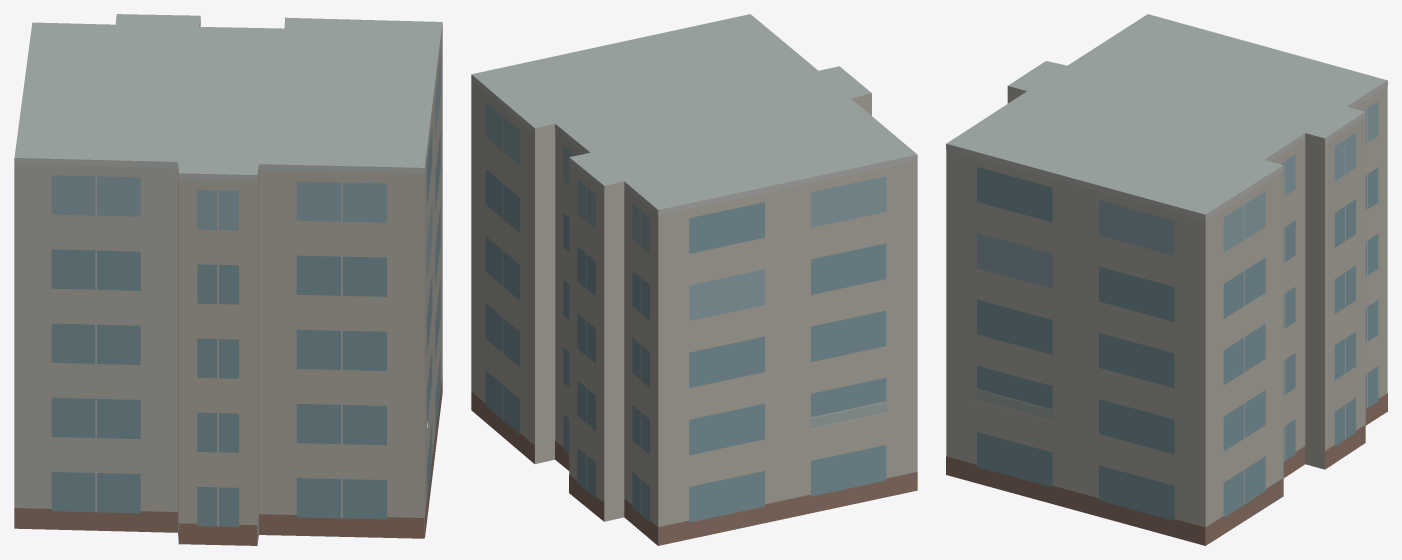
The model's file is survey-upis-32717923.glb.
3 renders of one model, left to right at view 1: azimuth 30°, elevation 25°; view 2: azimuth 150°, elevation 25°; view 3: azimuth 270°, elevation 25°, orthographic. The views are drawn at different scales.
Parts seen in each view (by area): view 1: survey-upis-32717923.tmp; view 2: survey-upis-32717923.tmp; view 3: survey-upis-32717923.tmp.
Boxes of the visible parts, box(x1,y1,x2,y2) form: survey-upis-32717923.tmp: box(14, 14, 442, 545); survey-upis-32717923.tmp: box(471, 14, 917, 545); survey-upis-32717923.tmp: box(946, 14, 1387, 545).
Bounding box in the file's own units: 18.59 × 14.3 × 17.29.
